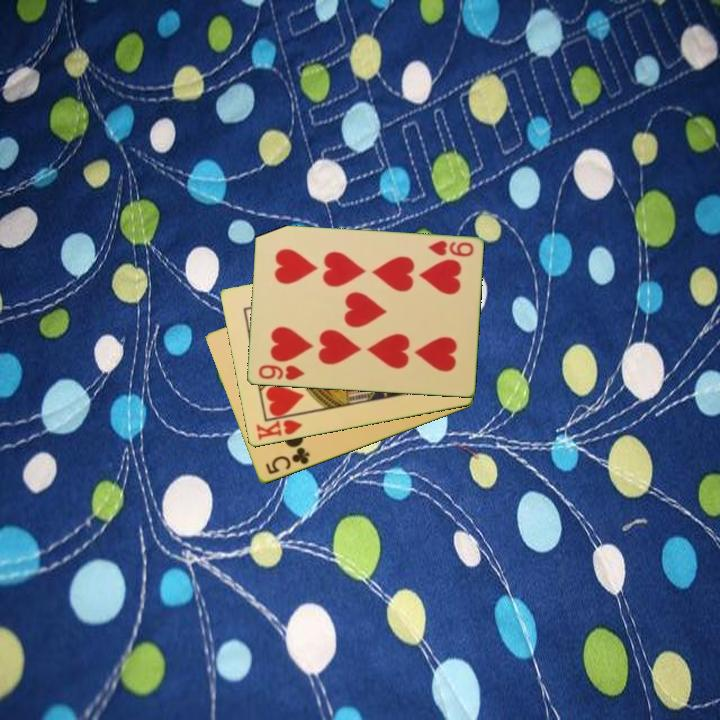5c: (262, 444, 312, 478)
9h: (255, 361, 307, 384), (424, 237, 476, 260)
Kh: (252, 411, 306, 443)
